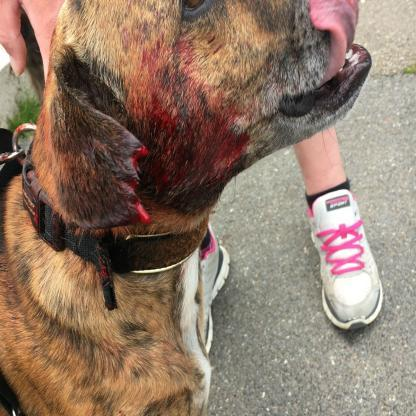dog: (3, 0, 364, 416)
injured: (35, 64, 212, 252)
